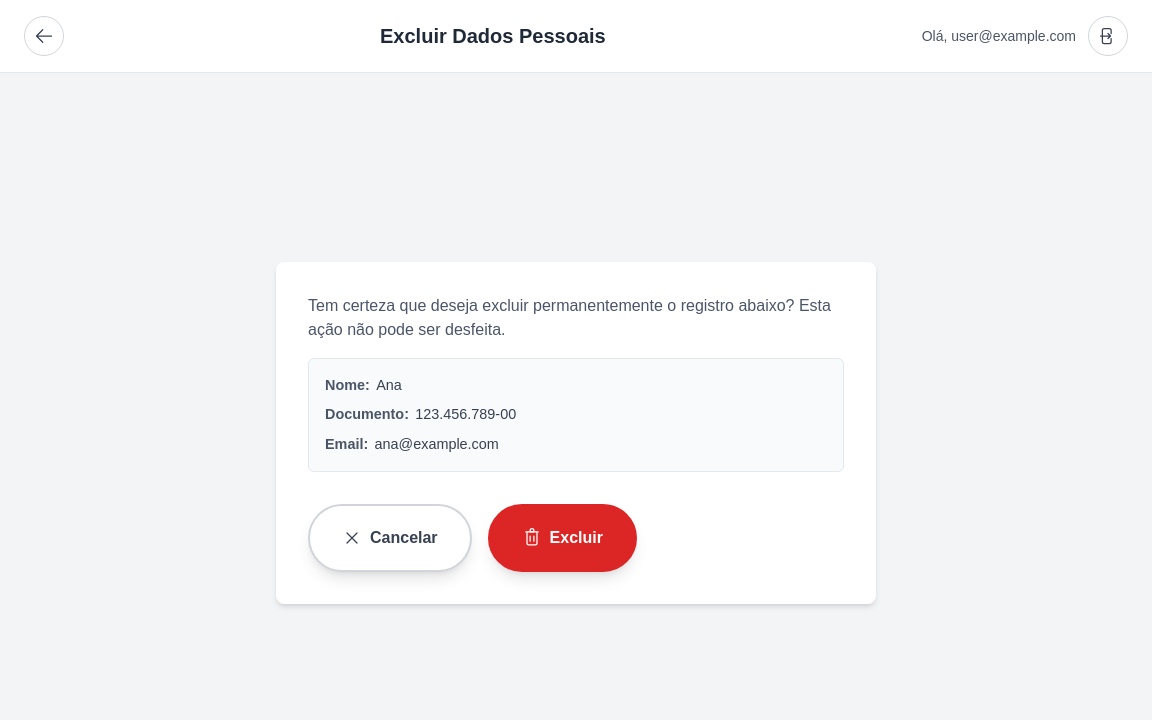
DeletePage › deletes the record and redirects on confirm
Click the button "Excluir": (562, 538) [488,504,637,572]
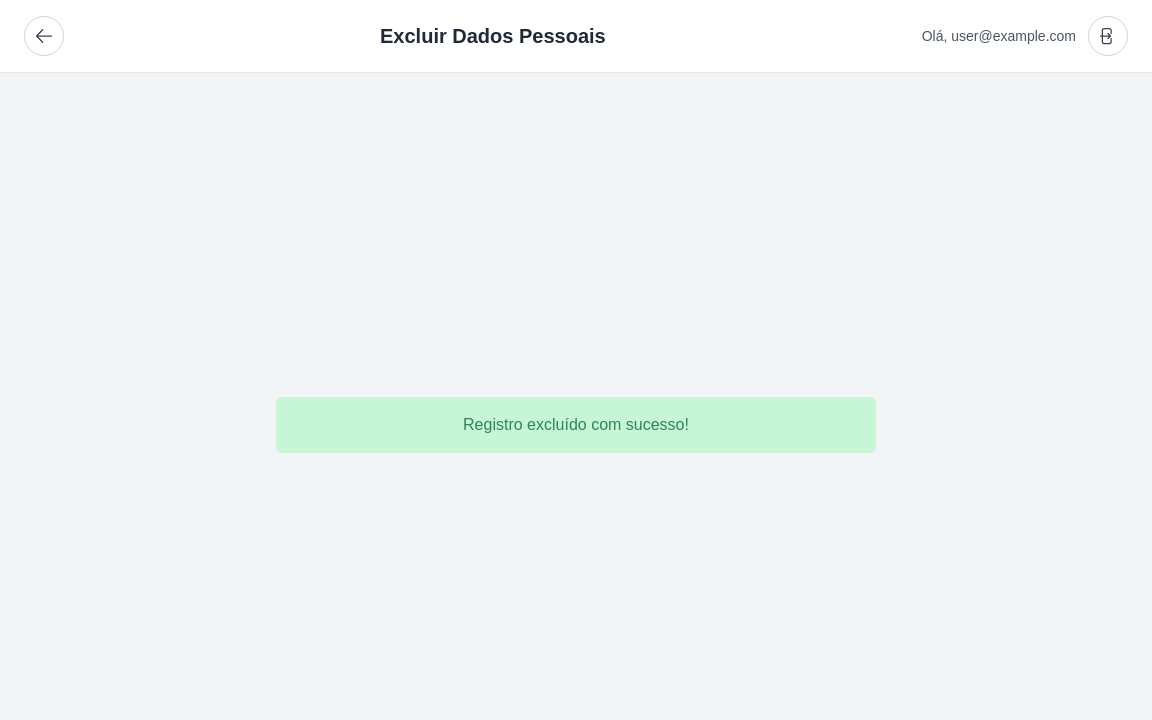
expect the text "Registro excluído com sucesso!" is shown: met, box [276,397,876,453]
